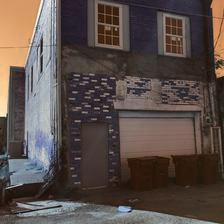Destroyed_Building: (0, 0, 224, 201)
